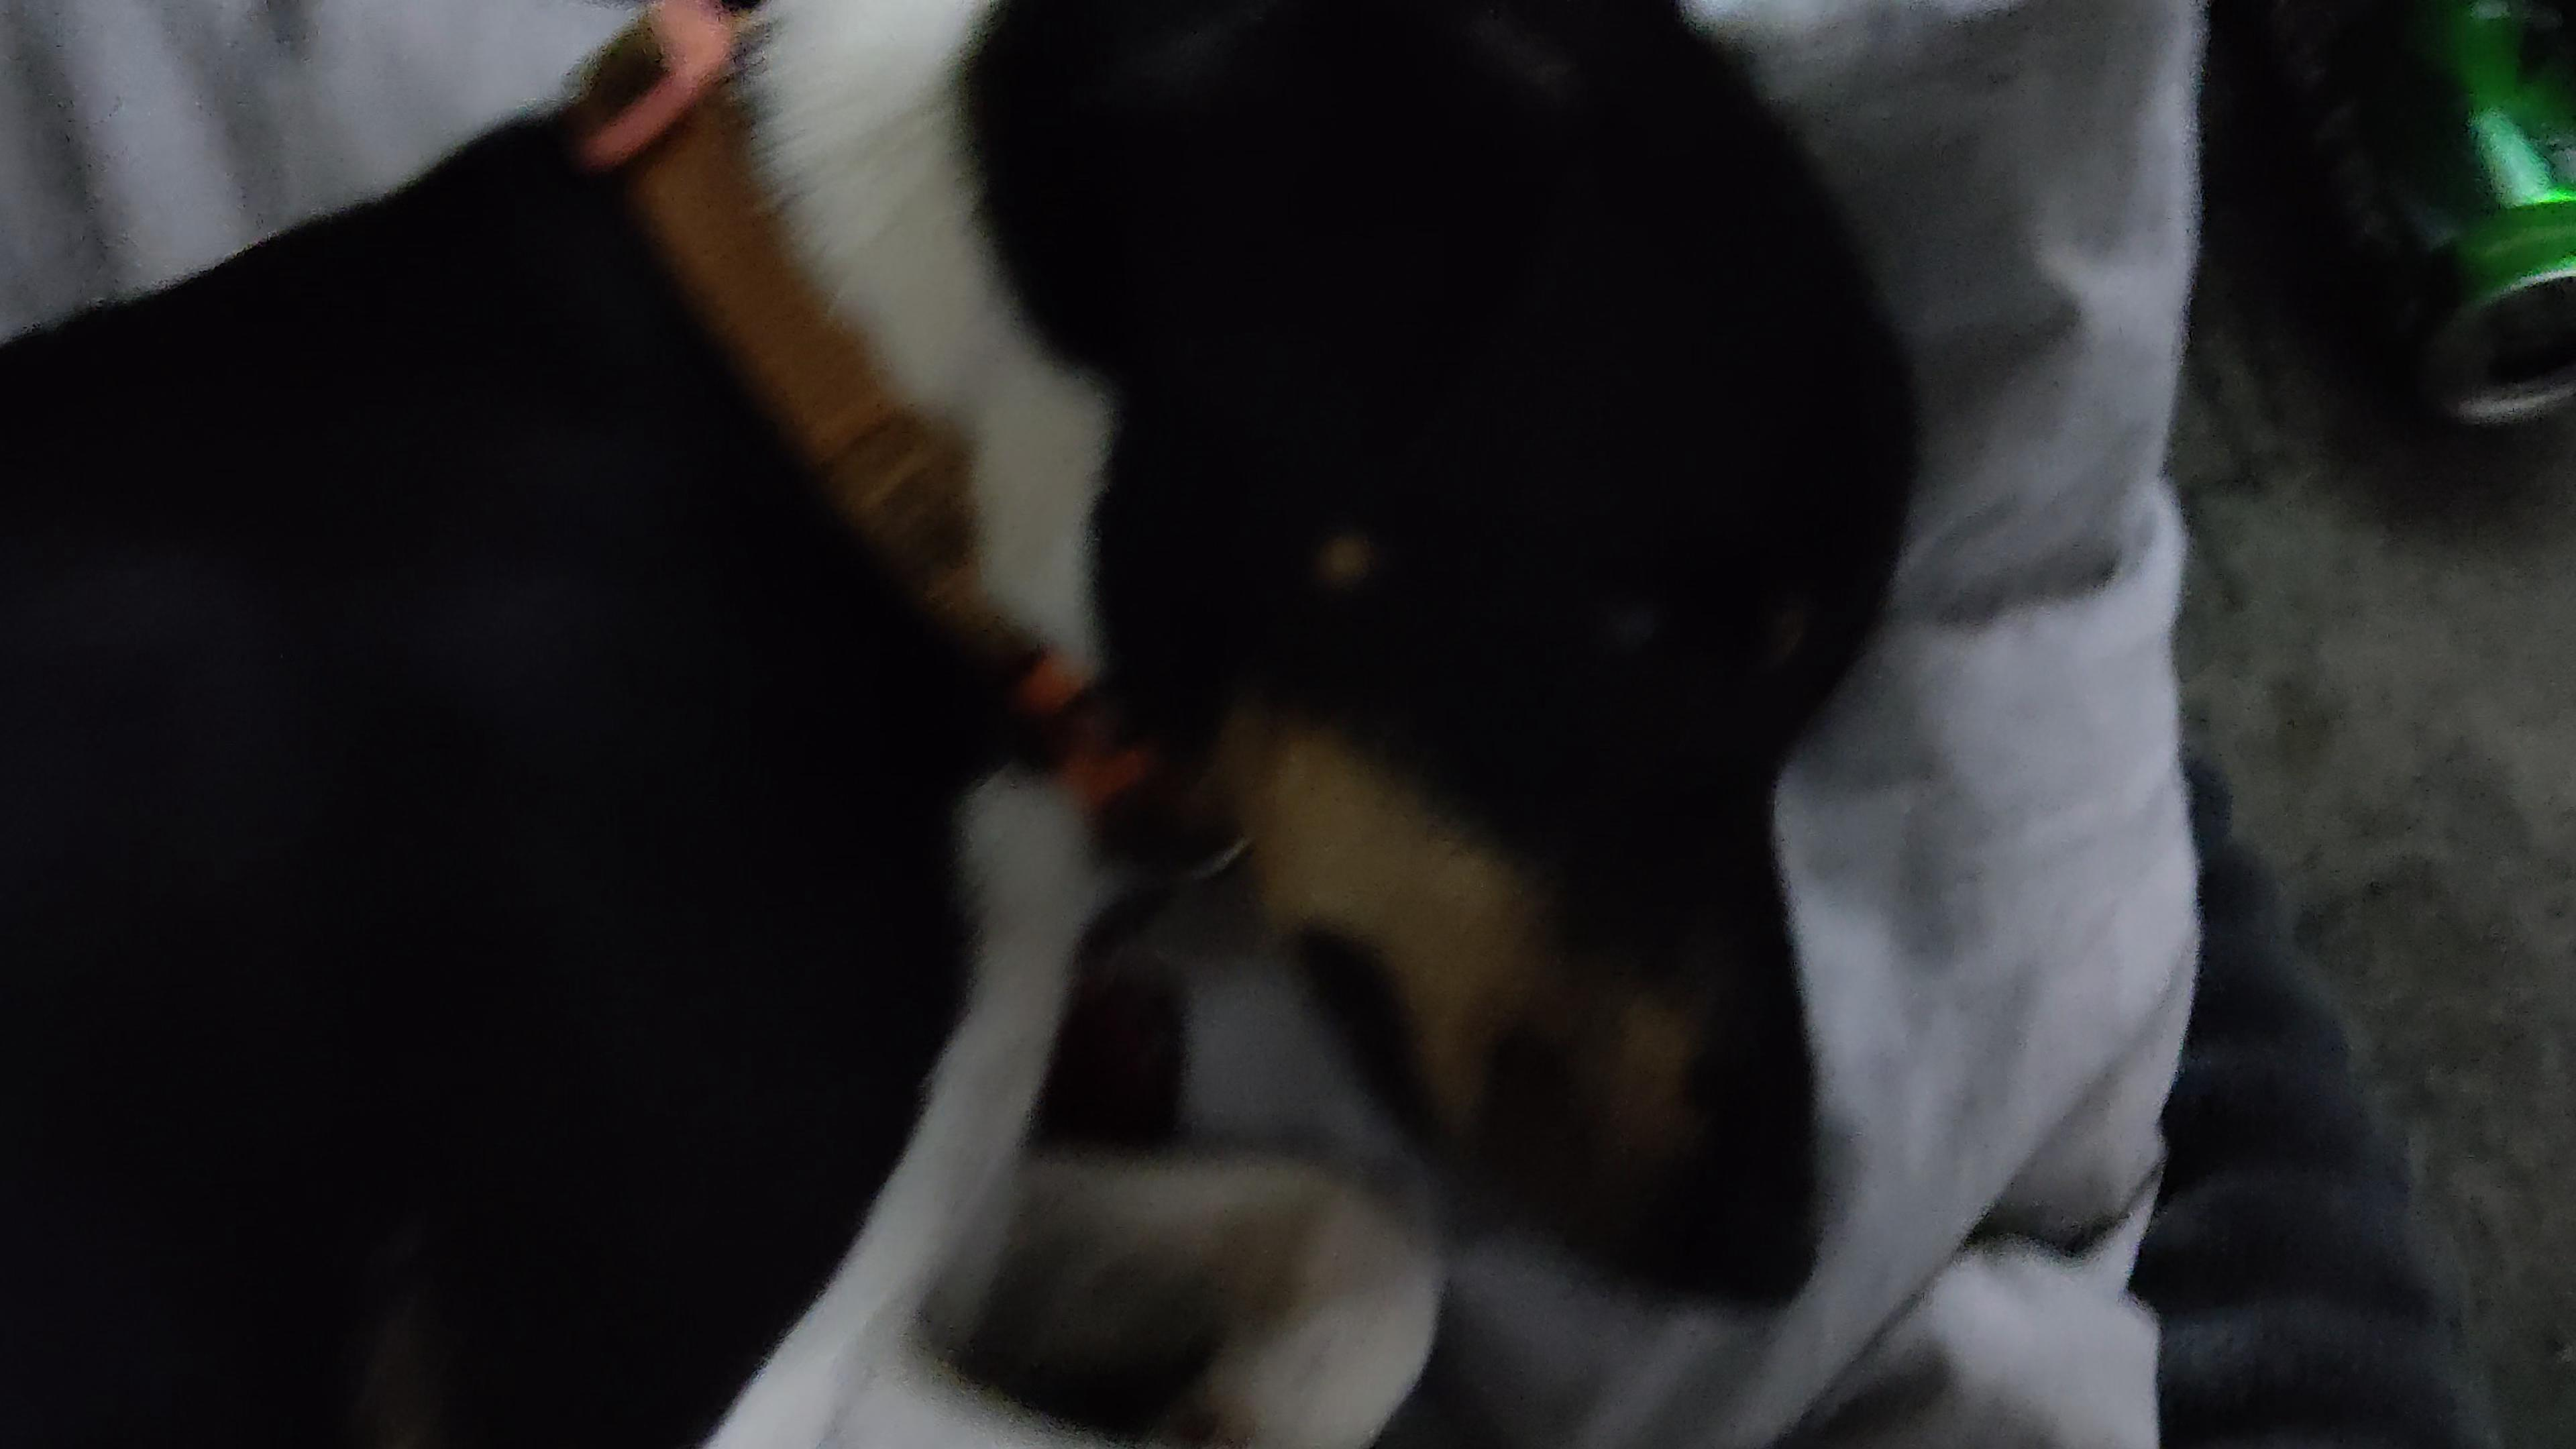Dog: (0, 0, 1982, 1449)
